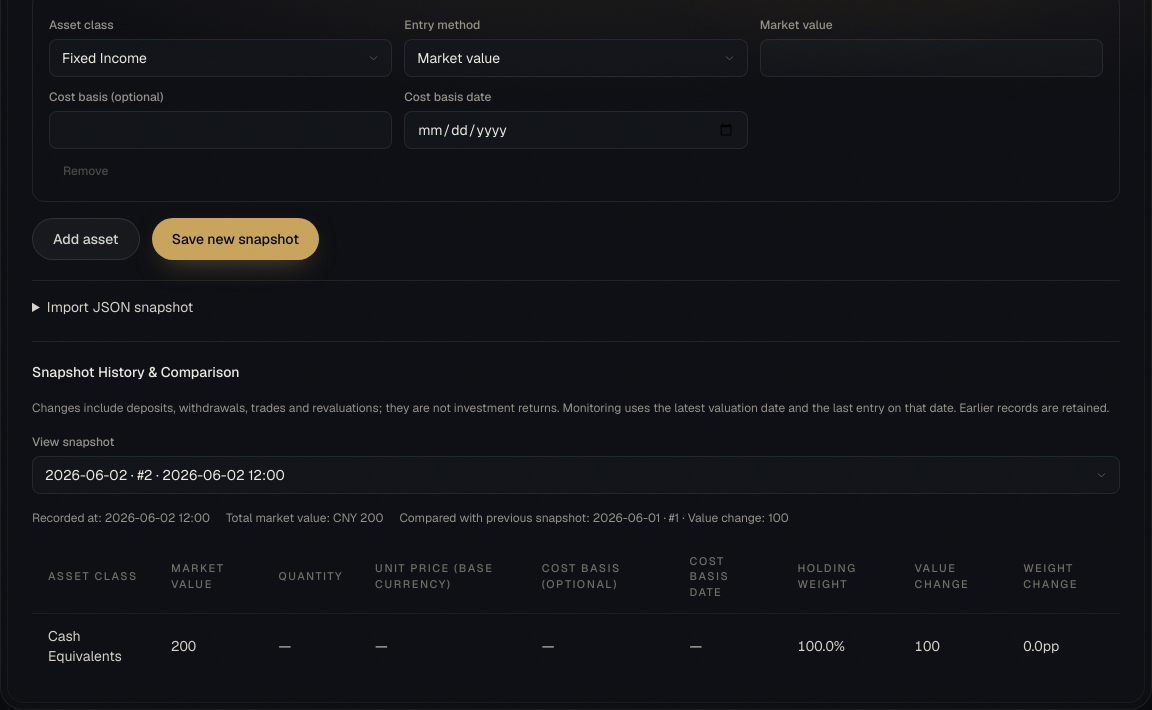
Test: HoldingsWorkspace › shows recorded comparisons without calculating investment returns
The width and height of the screenshot is (1152, 710).
(page scrolled)
expect the text "Compared with previous snapshot: 2026-06-01" is shown: met, box [400,510,789,526]
Step 1. Select "2026-06-01 · #1 · 2026-06-01 12:00" in the dropdown labelled "View snapshot" → (576, 474), box [32,456,1120,494]
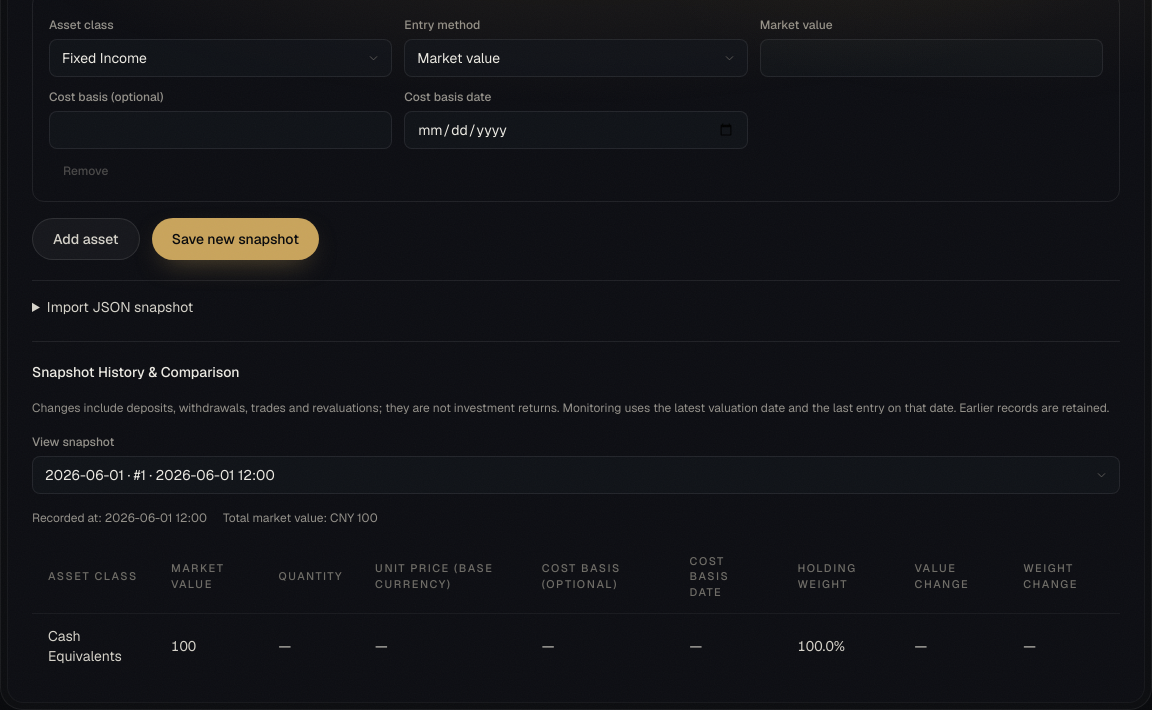
expect the text "Changes include deposits, withdrawals, trades and revaluations; they are not investment returns. Monitoring uses the lat" is shown: met, box [32,400,1109,416]
expect the text "Compared with previous snapshot: 2026-06-01" is gone: met
